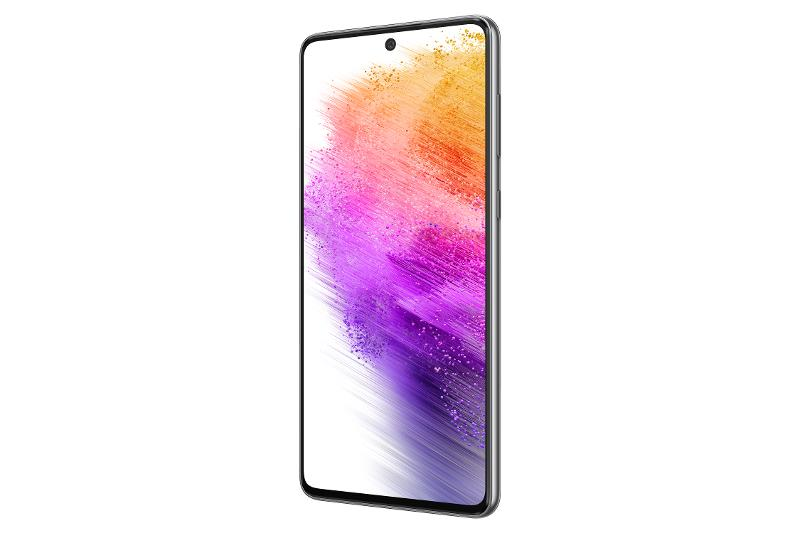phone: (280, 19, 512, 525)
